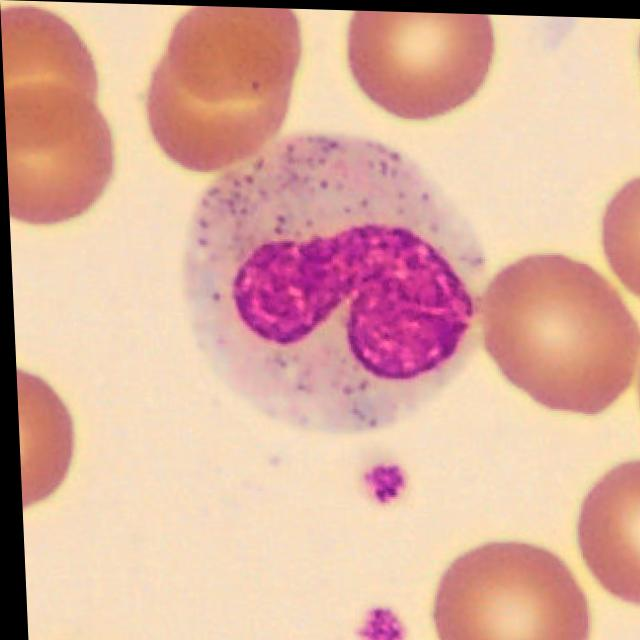Neutrofilo segmentado: (179, 130, 489, 431)
